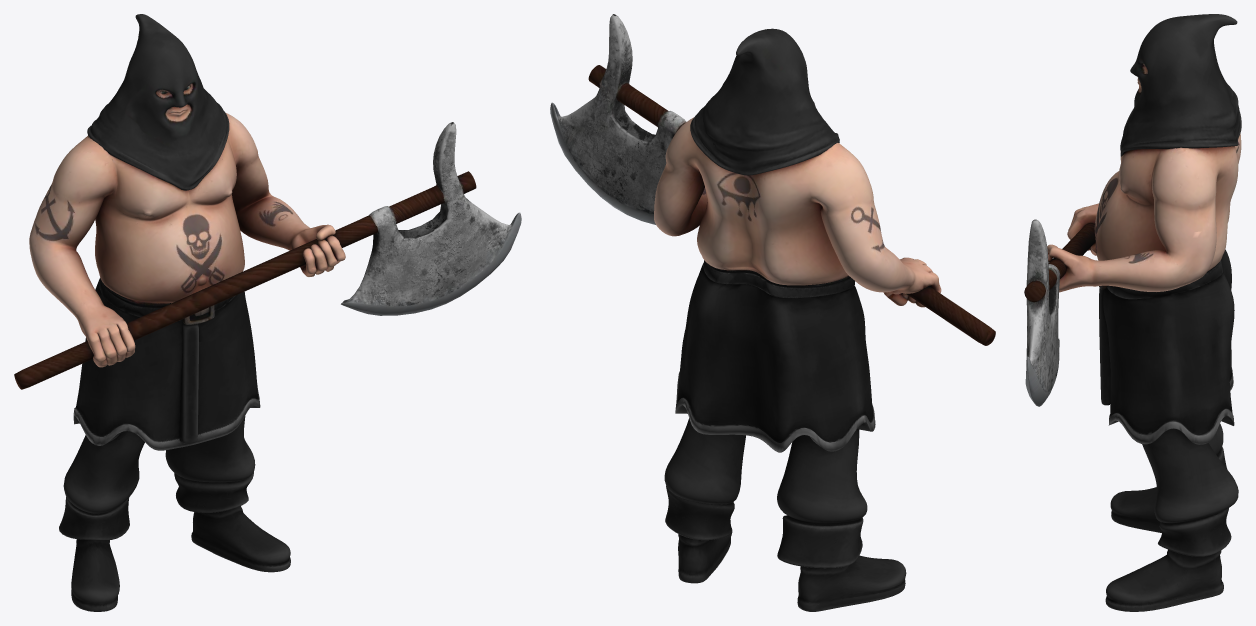
The model's file is MZ4250 - Executioner.glb.
The picture shows the model from 3 angles, left to right: view 1: azimuth 30°, elevation 25°; view 2: azimuth 150°, elevation 25°; view 3: azimuth 270°, elevation 25°; orthographic projection. The views are drawn at different scales.
Visible parts, largest first — view 1: Cube.001; view 2: Cube.001; view 3: Cube.001.
Part boxes in pixels (x1=…): Cube.001: x1=14, y1=14, x2=521, y2=611; Cube.001: x1=550, y1=14, x2=995, y2=611; Cube.001: x1=1024, y1=14, x2=1241, y2=611.
Bounding box in the file's own units: 0.8573 × 0.9396 × 0.3383.
Materials: 1 (1 with a texture image).
